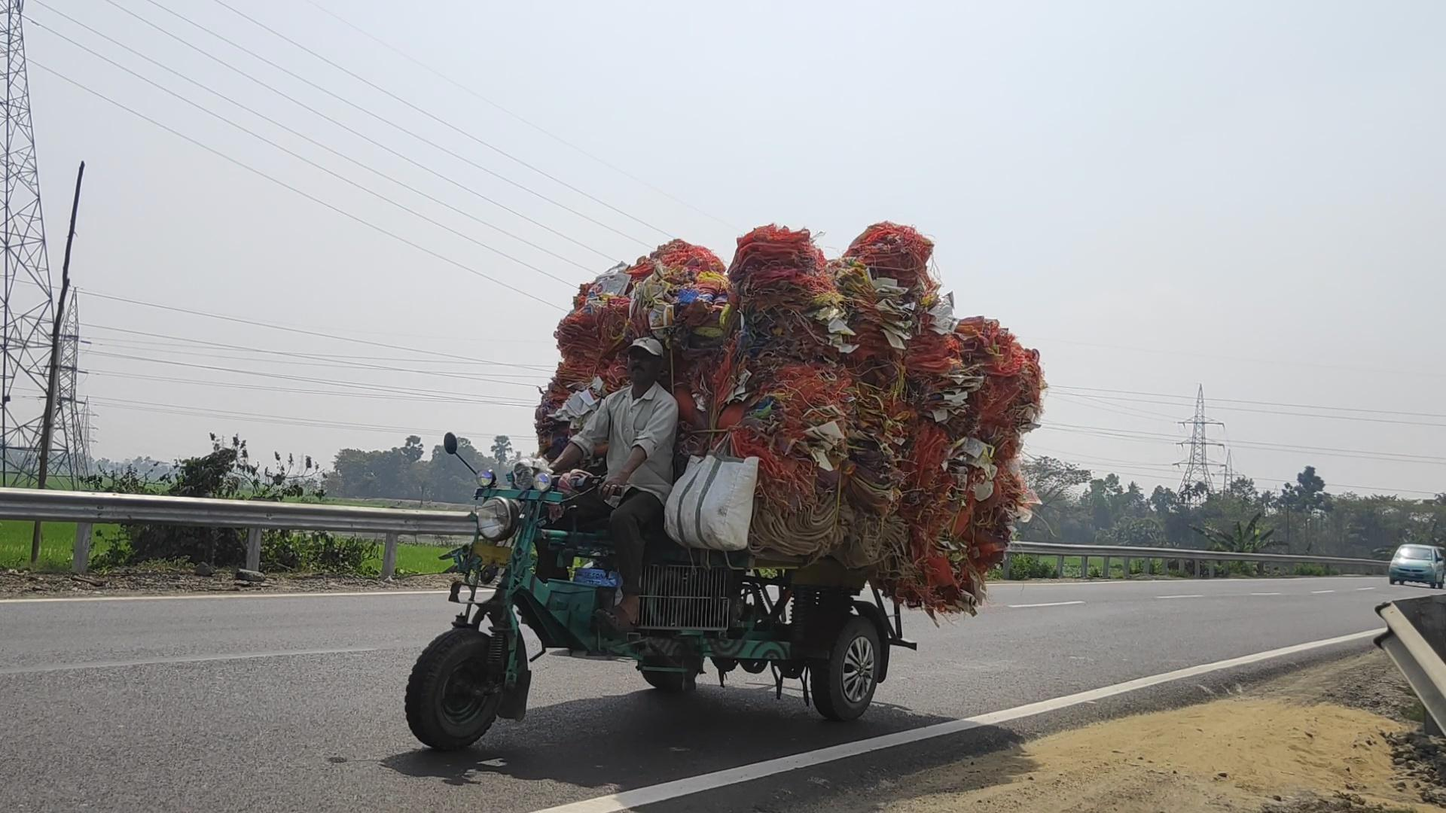car: (1388, 544, 1445, 589)
